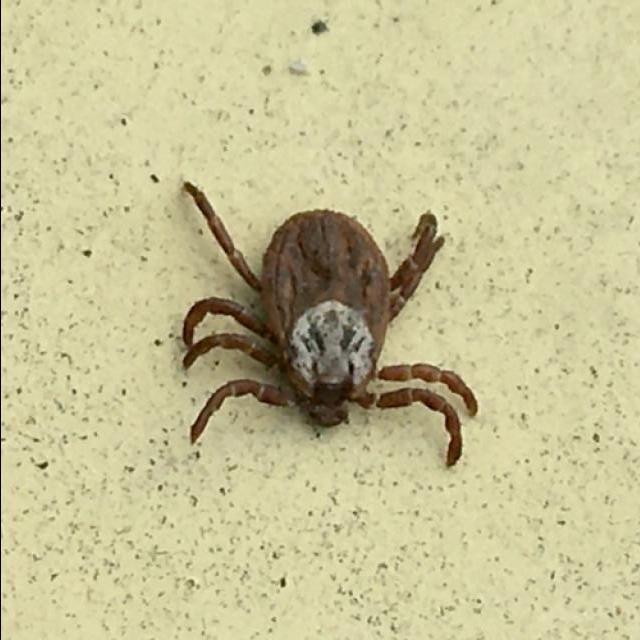Dermacentor Reticulatus-F: (179, 180, 477, 468)
